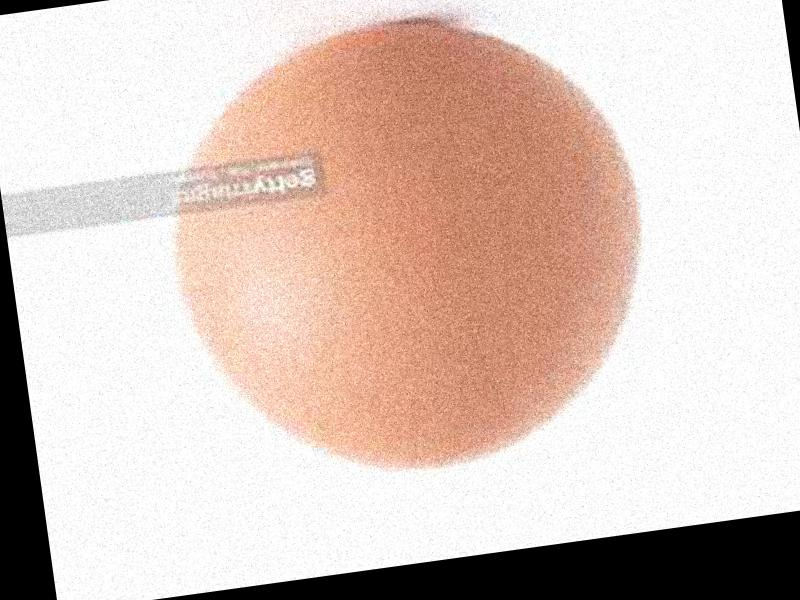Eggs: (148, 3, 669, 500)
